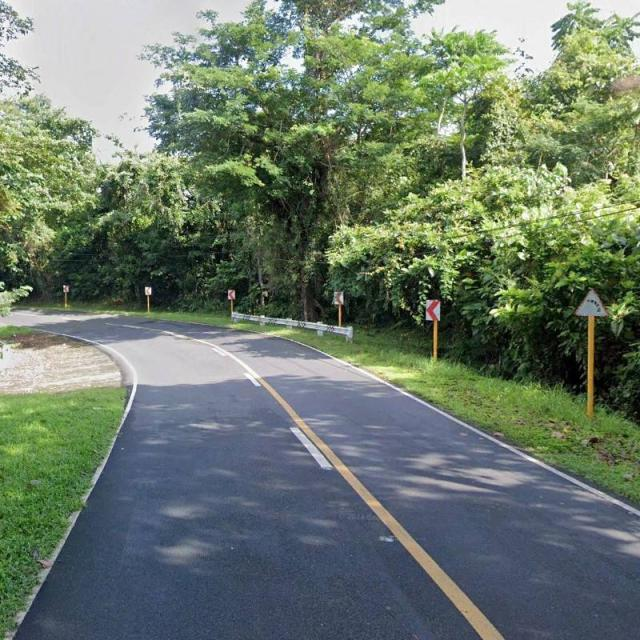warn_left_curve: (574, 287, 609, 316)
